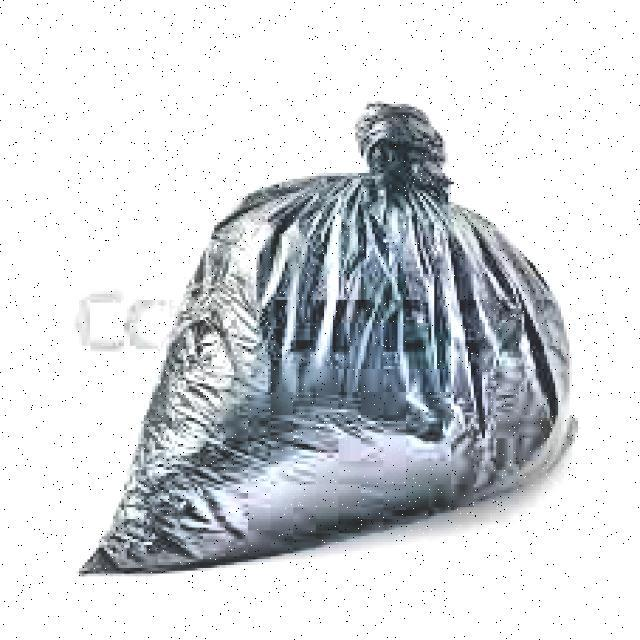Trashbag: (74, 161, 585, 604)
